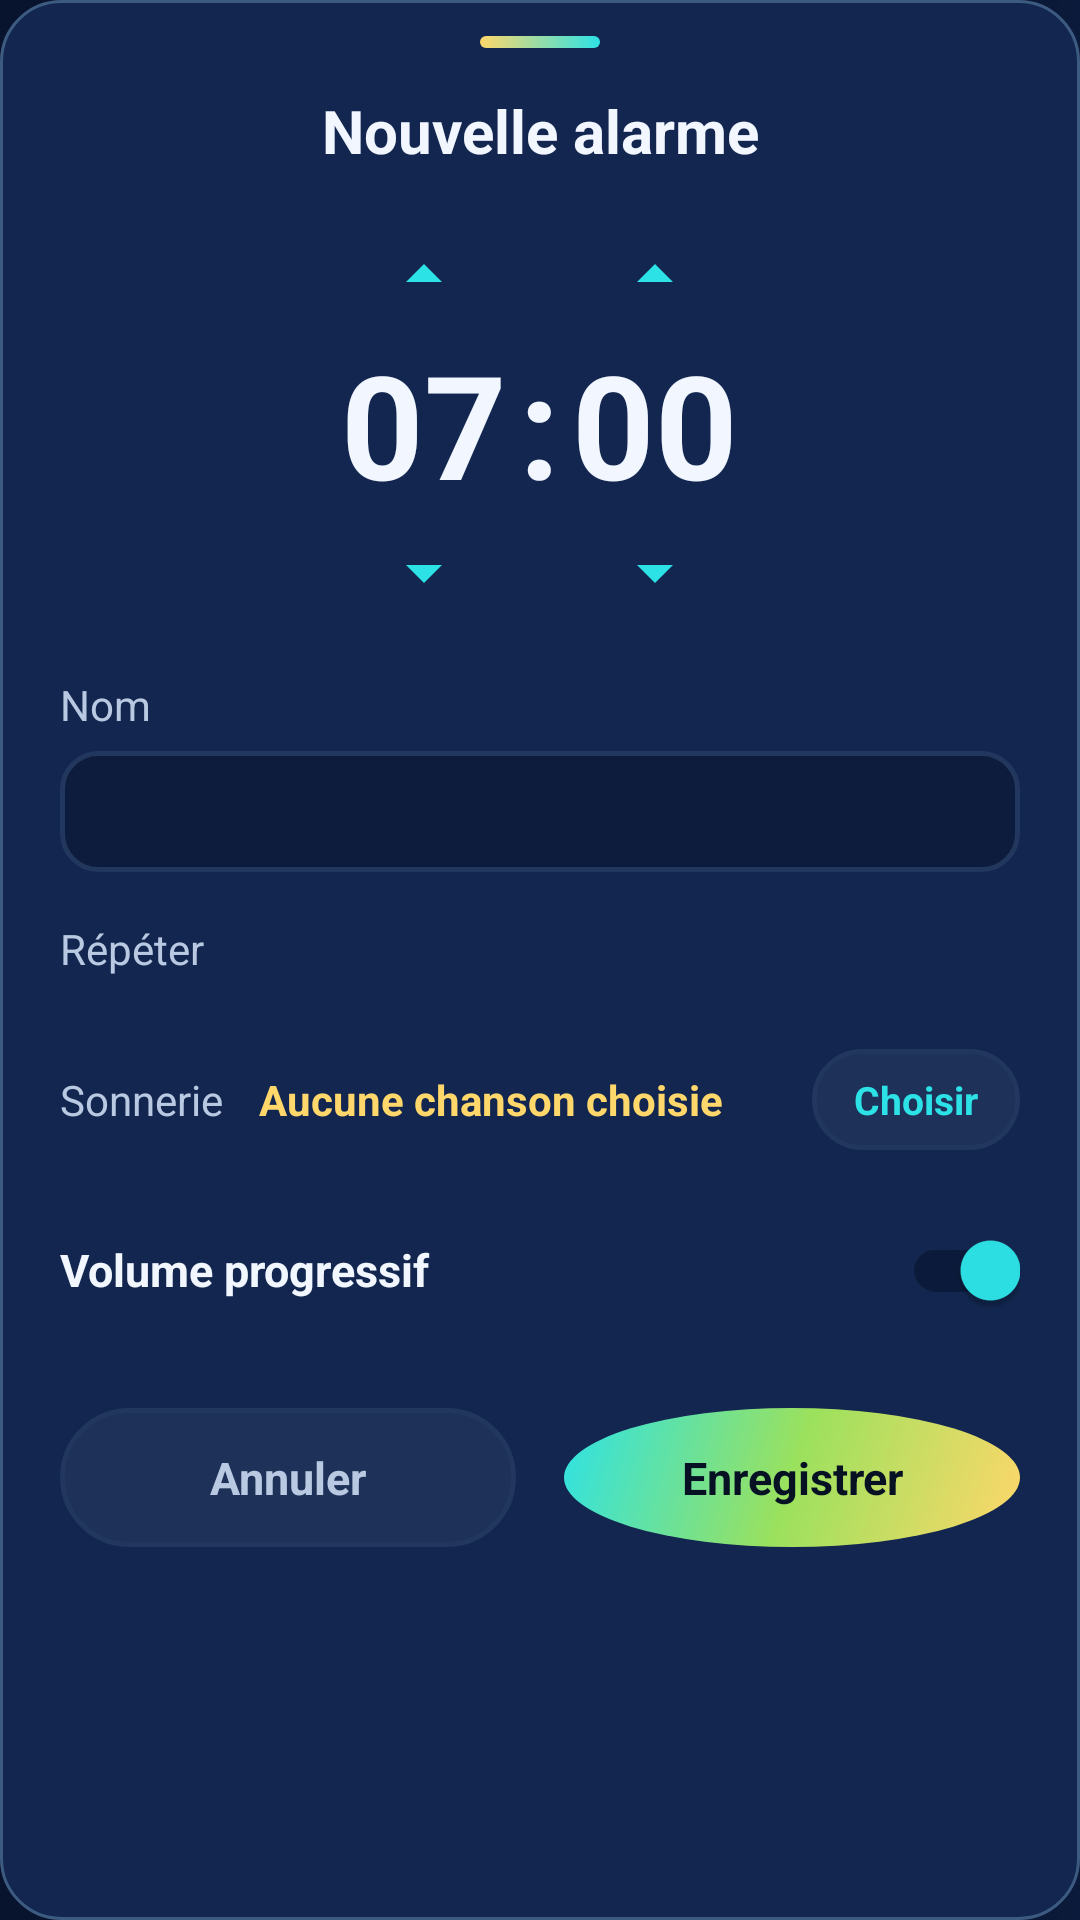

Icons on this 1080w x 1920h Android screen, each with its box as (left=x1, top=y1, right=x2, bottom=y2):
chevron down: (left=406, top=565, right=442, bottom=583), (left=637, top=565, right=673, bottom=583)
chevron up: (left=406, top=264, right=442, bottom=282), (left=637, top=264, right=673, bottom=282)
